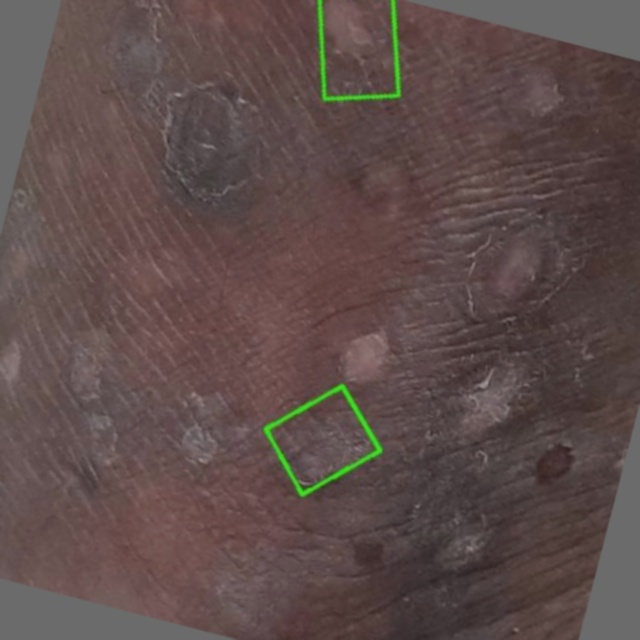Contact Dermatitis: (265, 386, 380, 495), (320, 0, 398, 99)
